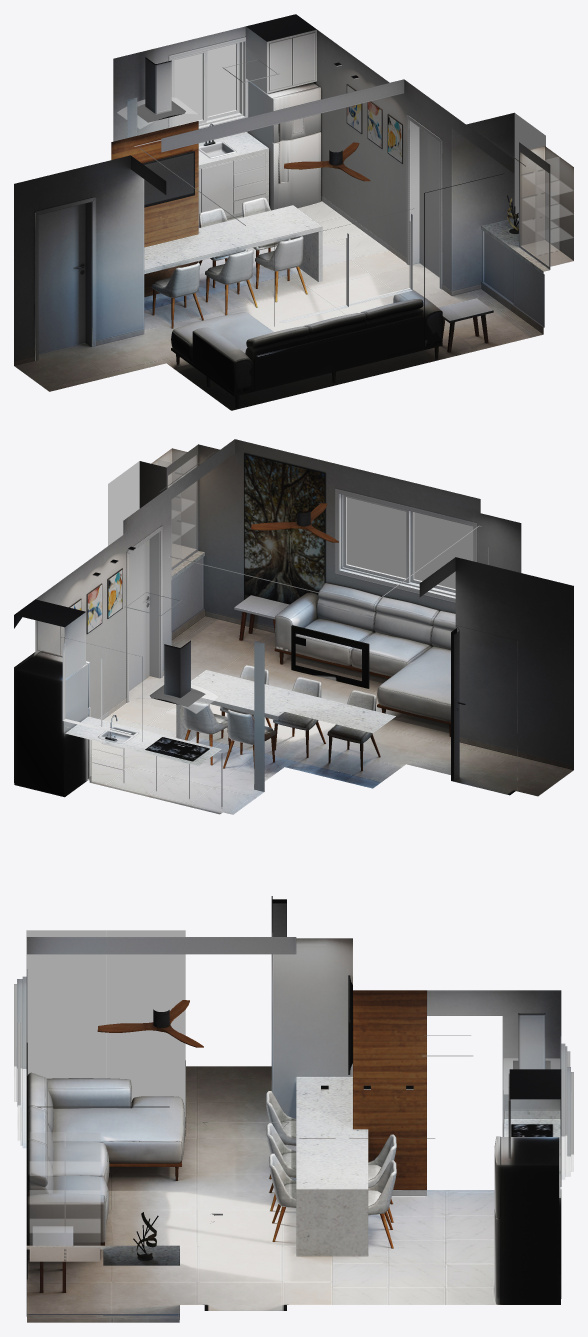
Rendered from casa_2.glb.
The picture shows the model from 3 angles, top to bottom: view 1: azimuth 30°, elevation 25°; view 2: azimuth 150°, elevation 25°; view 3: azimuth 270°, elevation 25°; orthographic projection. The views are drawn at different scales.
Parts seen in each view (by area): view 1: Object347_Material #2146802338_0, Box013, Object359_Material #2146802008_0, Object350_Material #2146801996_0, Object001_Material #2146802003_0; view 2: Object347_Material #2146802338_0, Object359_Material #2146802008_0, Box013, Object350_Material #2146801996_0, Object001_Material #2146802003_0; view 3: Object347_Material #2146802338_0, Object350_Material #2146801996_0, Box013.
Part boxes in pixels (bbox=[...]): Object347_Material #2146802338_0: bbox=[14, 14, 573, 410]; Box013: bbox=[521, 153, 573, 265]; Object359_Material #2146802008_0: bbox=[174, 44, 235, 126]; Object350_Material #2146801996_0: bbox=[514, 113, 545, 220]; Object001_Material #2146802003_0: bbox=[117, 97, 199, 129]; Object347_Material #2146802338_0: bbox=[14, 439, 573, 814]; Object359_Material #2146802008_0: bbox=[347, 497, 473, 588]; Box013: bbox=[158, 455, 196, 566]; Object350_Material #2146801996_0: bbox=[108, 461, 488, 564]; Object001_Material #2146802003_0: bbox=[136, 681, 218, 713]; Object347_Material #2146802338_0: bbox=[14, 896, 573, 1322]; Object350_Material #2146801996_0: bbox=[26, 930, 185, 1129]; Box013: bbox=[29, 1132, 100, 1247].
Size of the model in its own units: 6.92 by 2.6 by 5.92.
6 materials, 1 textured.
